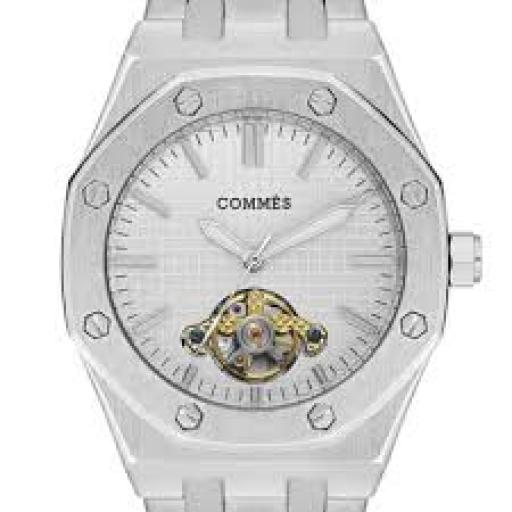KolSaati: (35, 1, 496, 512)
